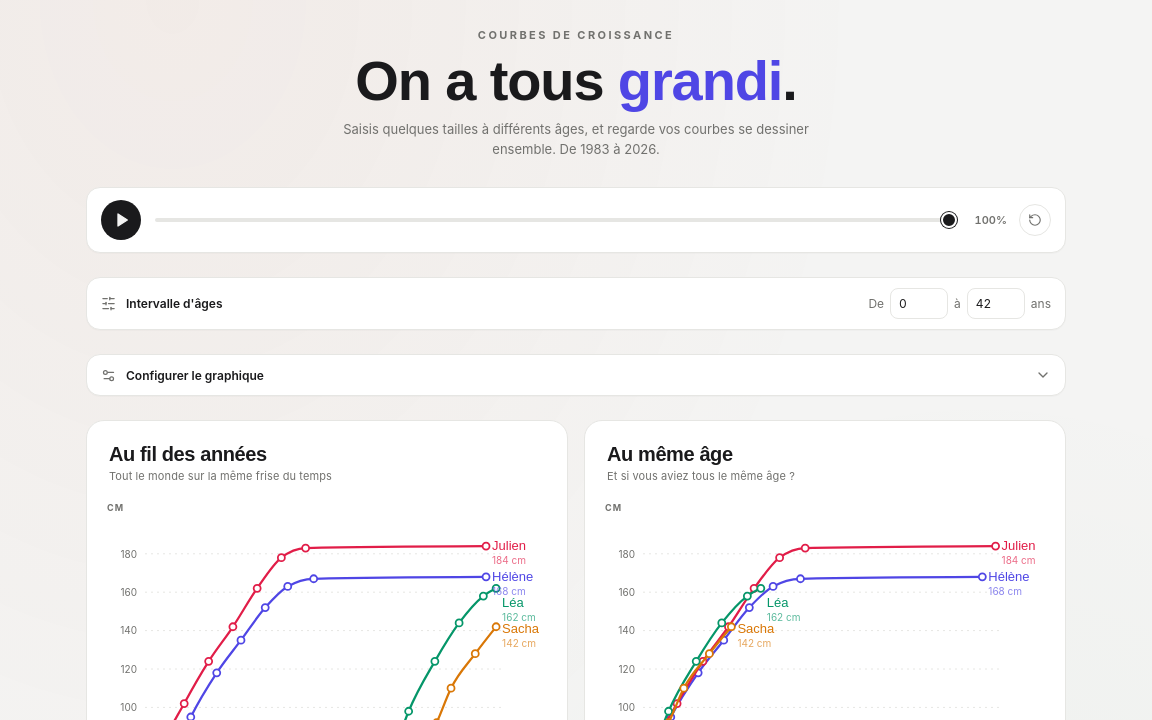
Scenario: App › age range filter › shows a reset button once the range is narrowed and restores it on click
Expected: the text "Tout afficher" is not shown
Replace the text in the number field named "Âge minimum" with "5" at (919, 304), box [890,288,948,319]
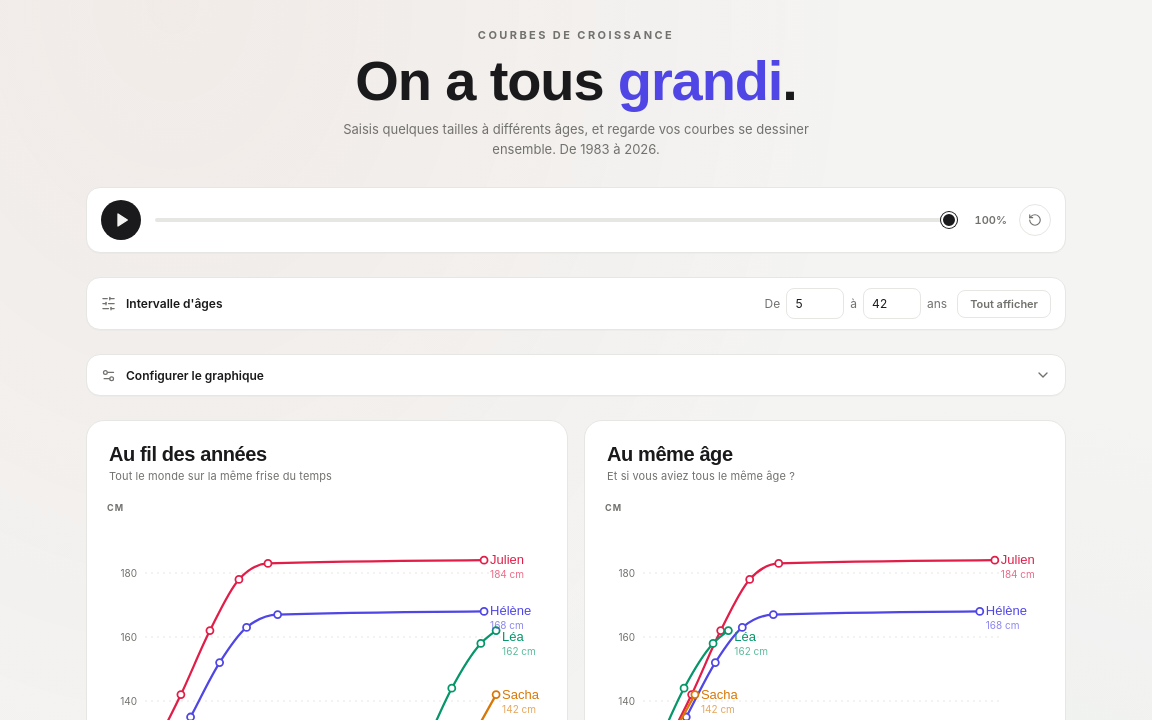
Expected: the button "Tout afficher" is shown
Click the button "Tout afficher" at (1004, 304), box [957,290,1051,318]
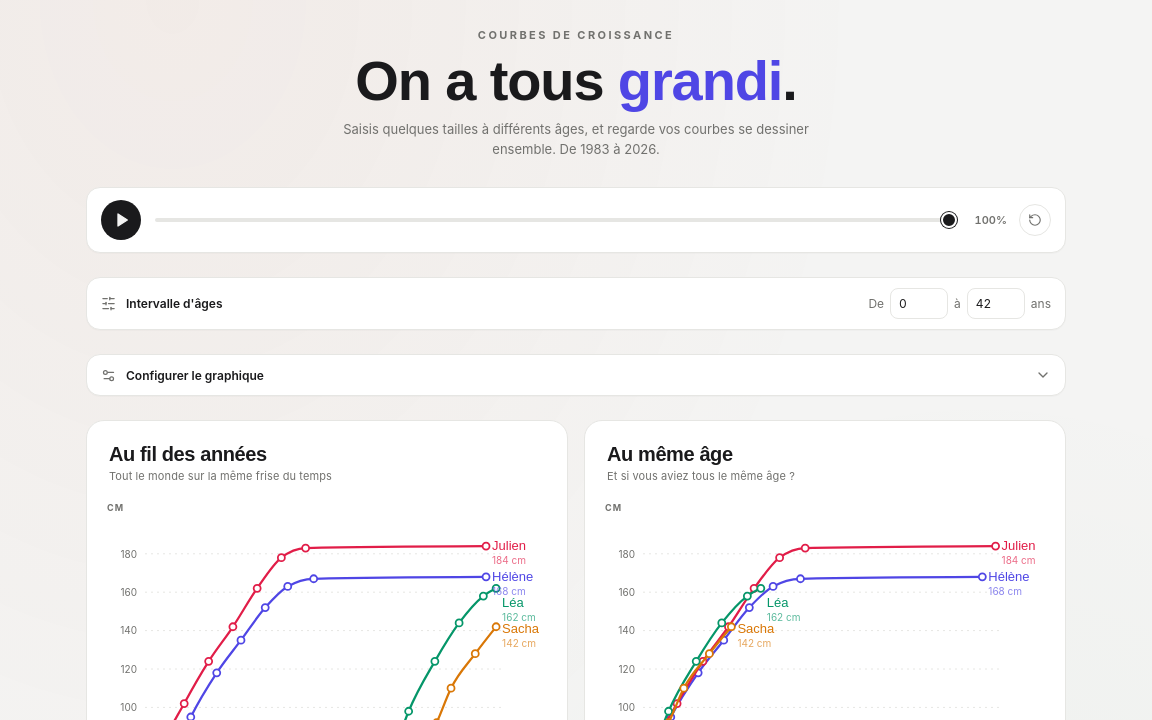
Expected: the button "Tout afficher" is gone
